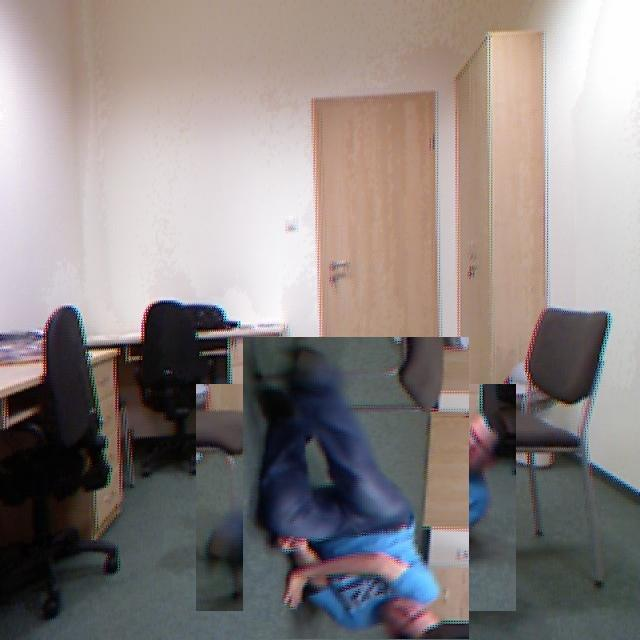Fall: (231, 382, 501, 640)
